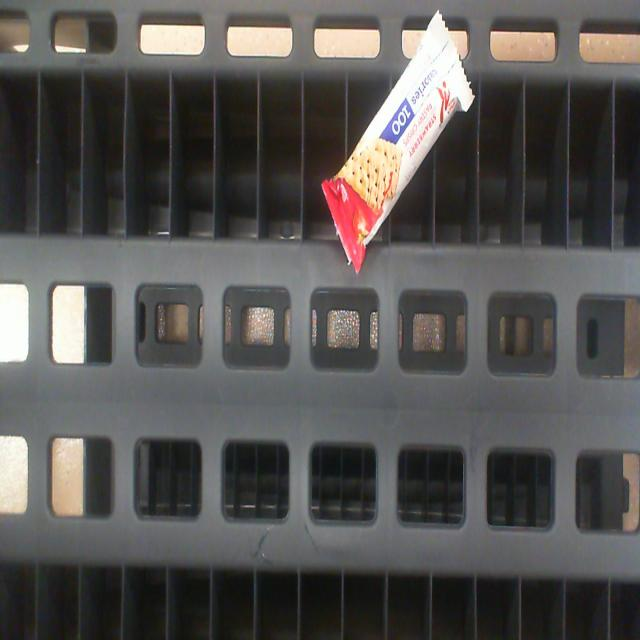snack: (324, 12, 468, 258)
